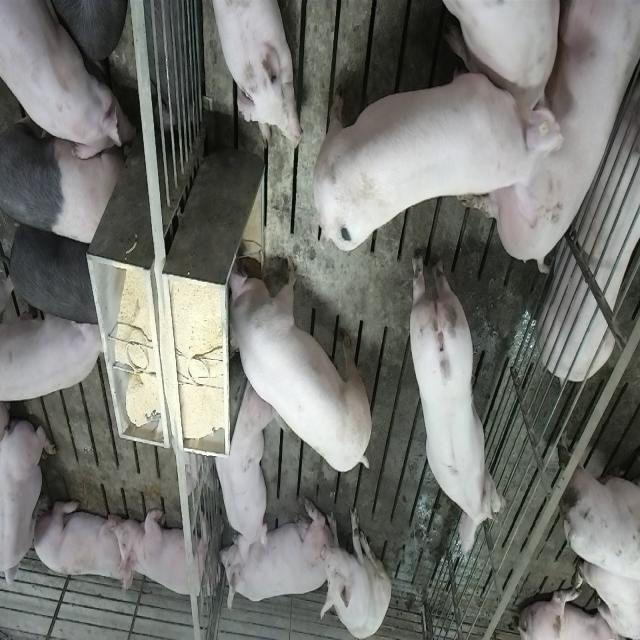Feeding: (220, 253, 368, 474)
Lateral_lying: (480, 0, 640, 273), (538, 19, 640, 383)
Sitting: (319, 503, 392, 638)
Standing: (314, 29, 552, 259), (406, 242, 506, 558), (2, 65, 128, 246), (2, 0, 138, 166), (416, 3, 560, 96), (2, 222, 106, 330), (4, 301, 110, 403)
Sternal_lying: (206, 0, 302, 149), (218, 503, 327, 613), (210, 379, 272, 557), (2, 408, 56, 598), (116, 505, 214, 603), (32, 495, 128, 589)
